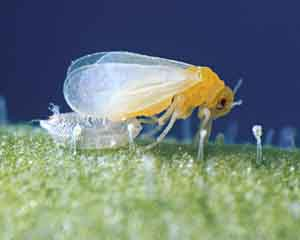whitefly: (63, 50, 243, 162)
